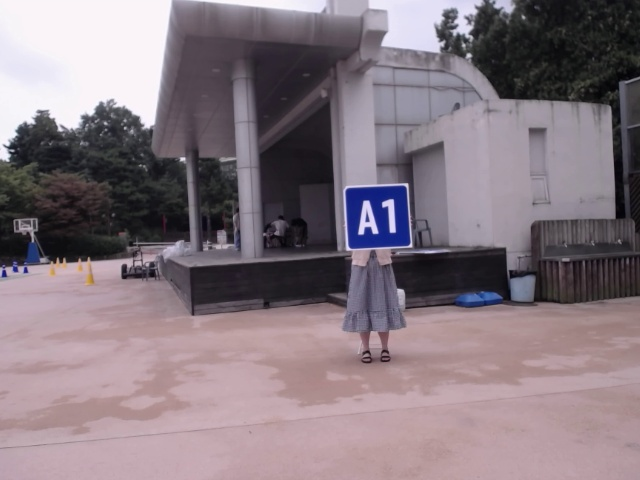delivery_a1: (344, 184, 412, 250)
